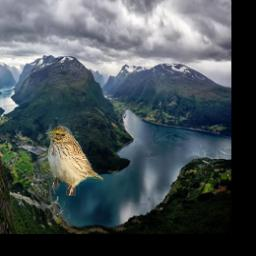Sparrow: (44, 124, 103, 196)
